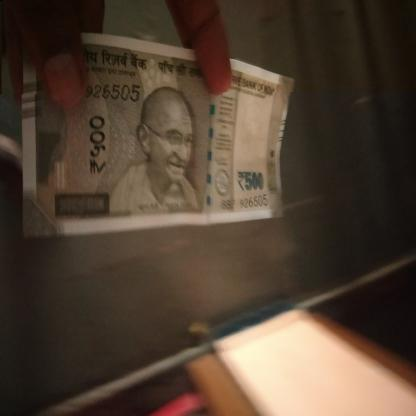New500Front: (24, 34, 288, 223)
